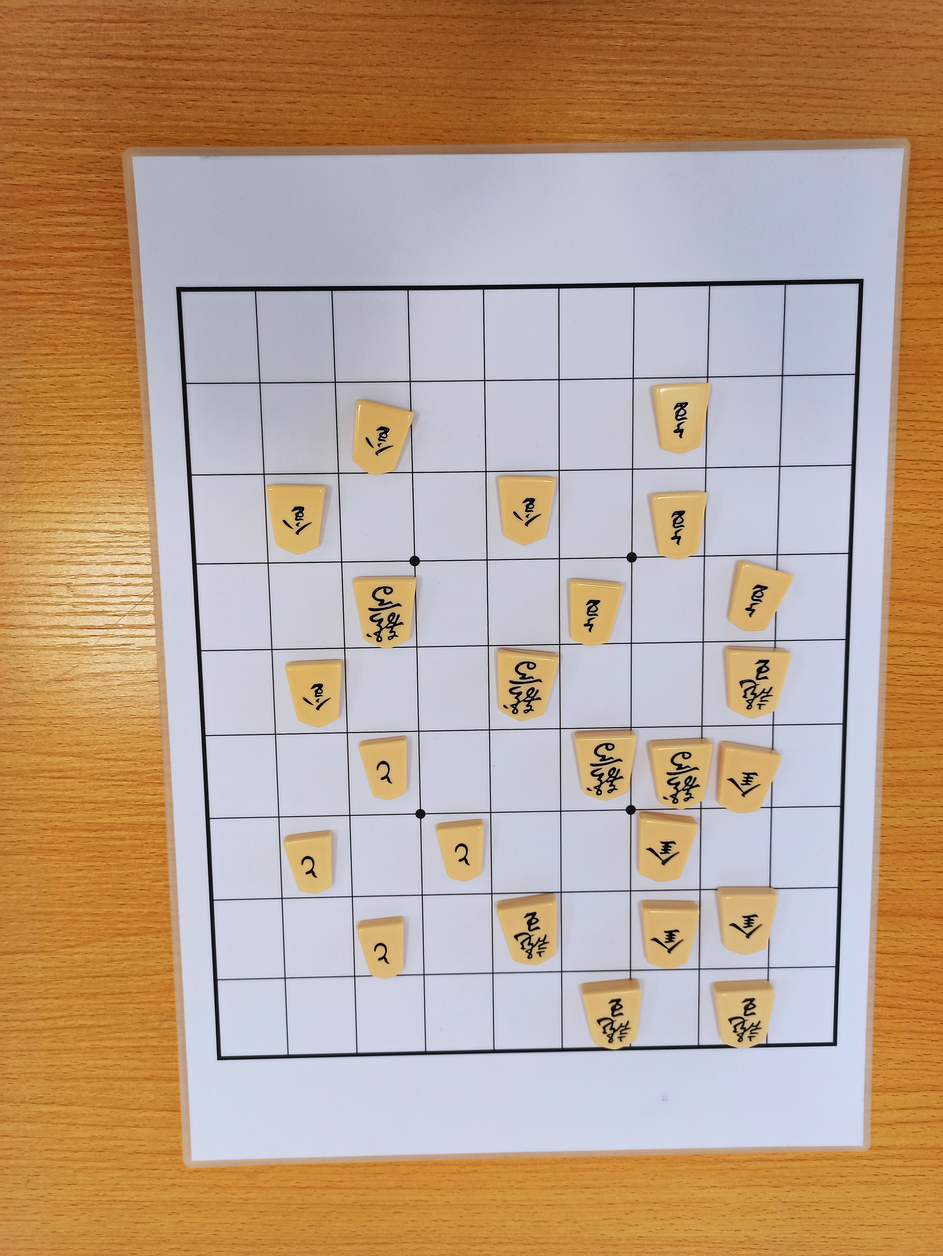board: (180, 281, 861, 1058)
